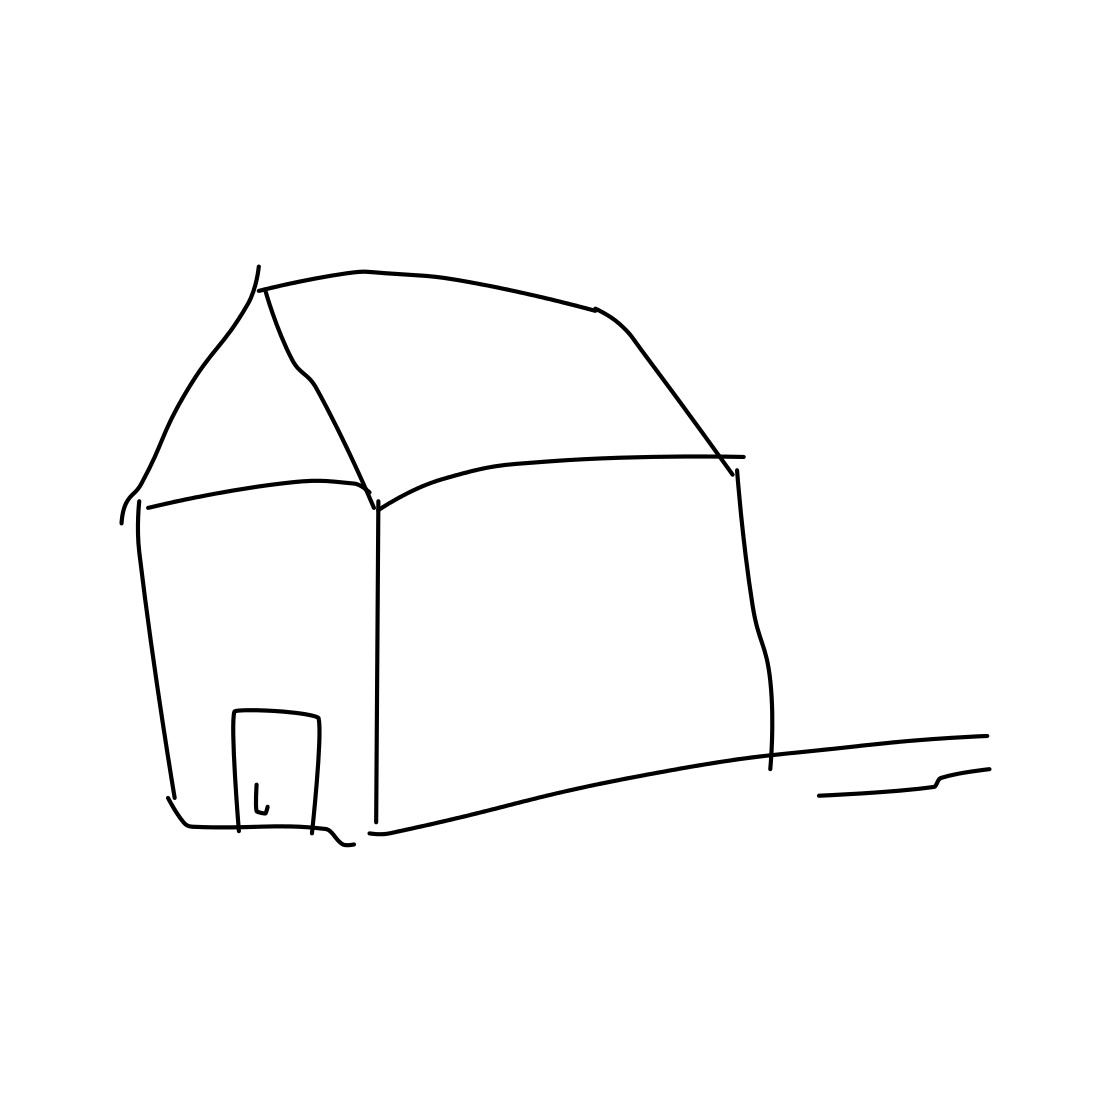House: (83, 228, 823, 855)
